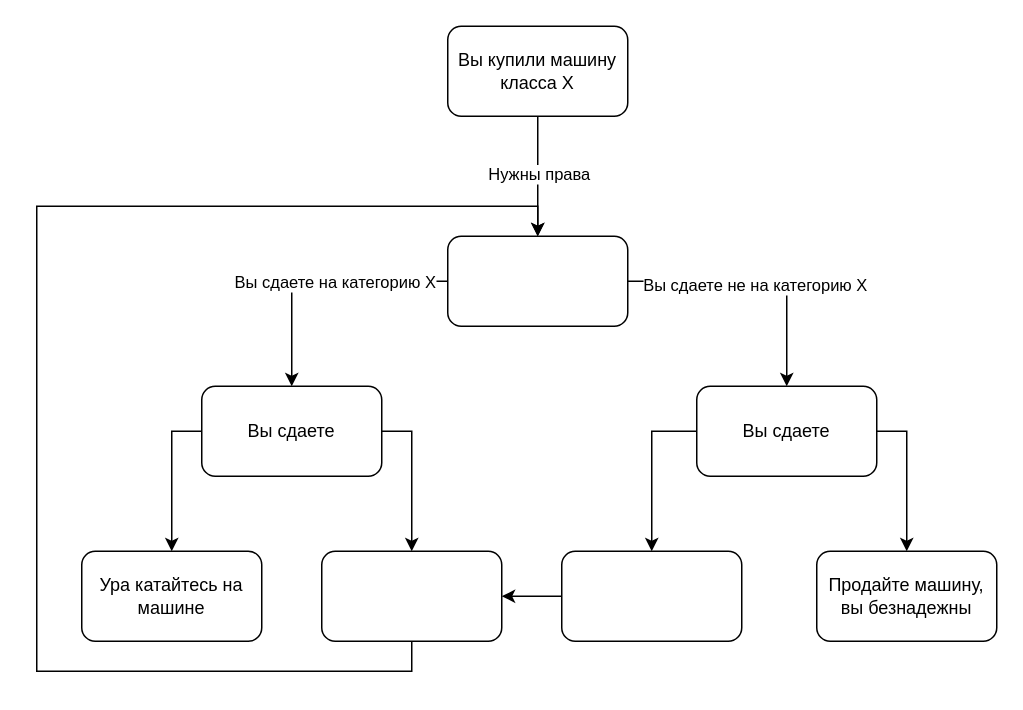
This 1023x710 diagram has some shape labels left out. The centre of each missing label's shape, as x and y in pixels:
Вы готовитесь: the point at 537,280
Пересдача: the point at 411,595
Ура вы не можете кататься на вашей машине: the point at 651,595
